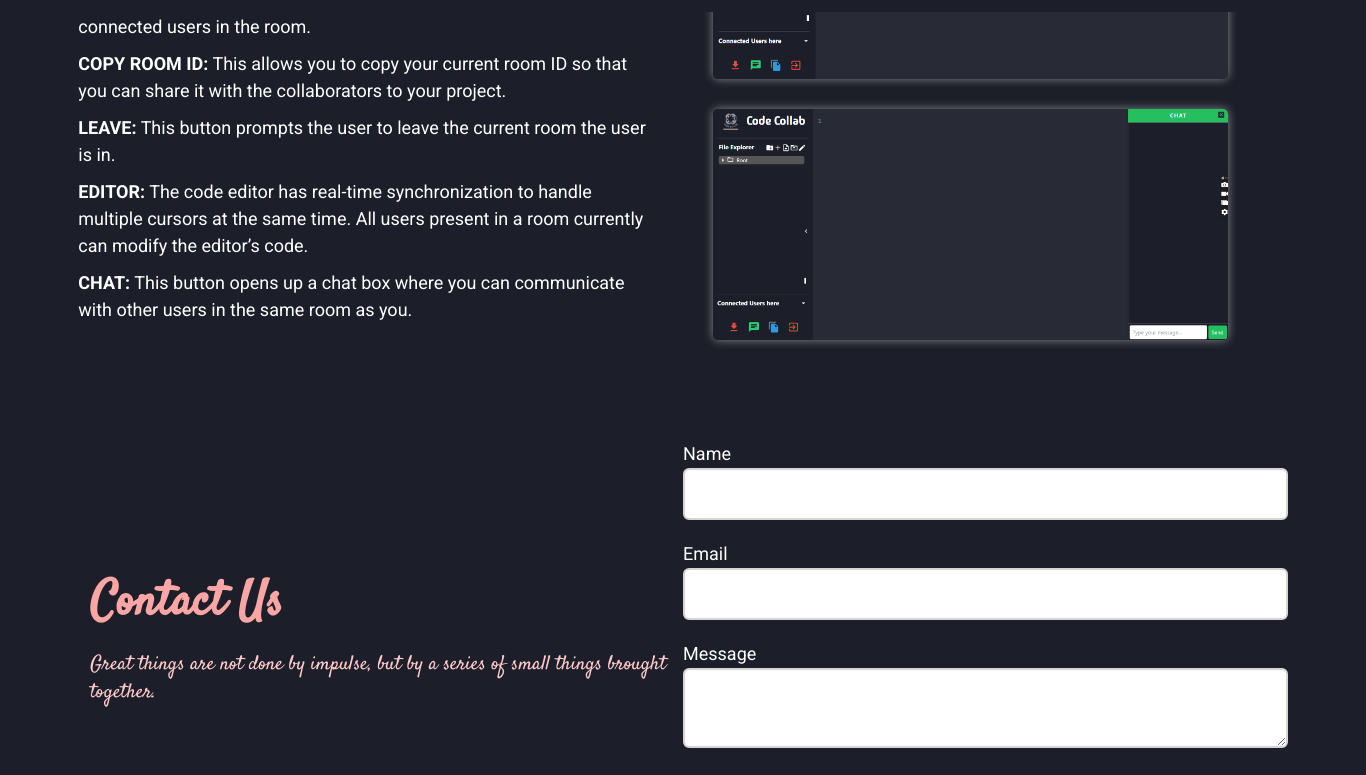
Test: Form functionality › handles form submission failure
(page scrolled)
Note: Fill out the form fields
Type "John" into the field labelled "Name". click: (985,494)
box: x1=683 y1=468 x2=1288 y2=520
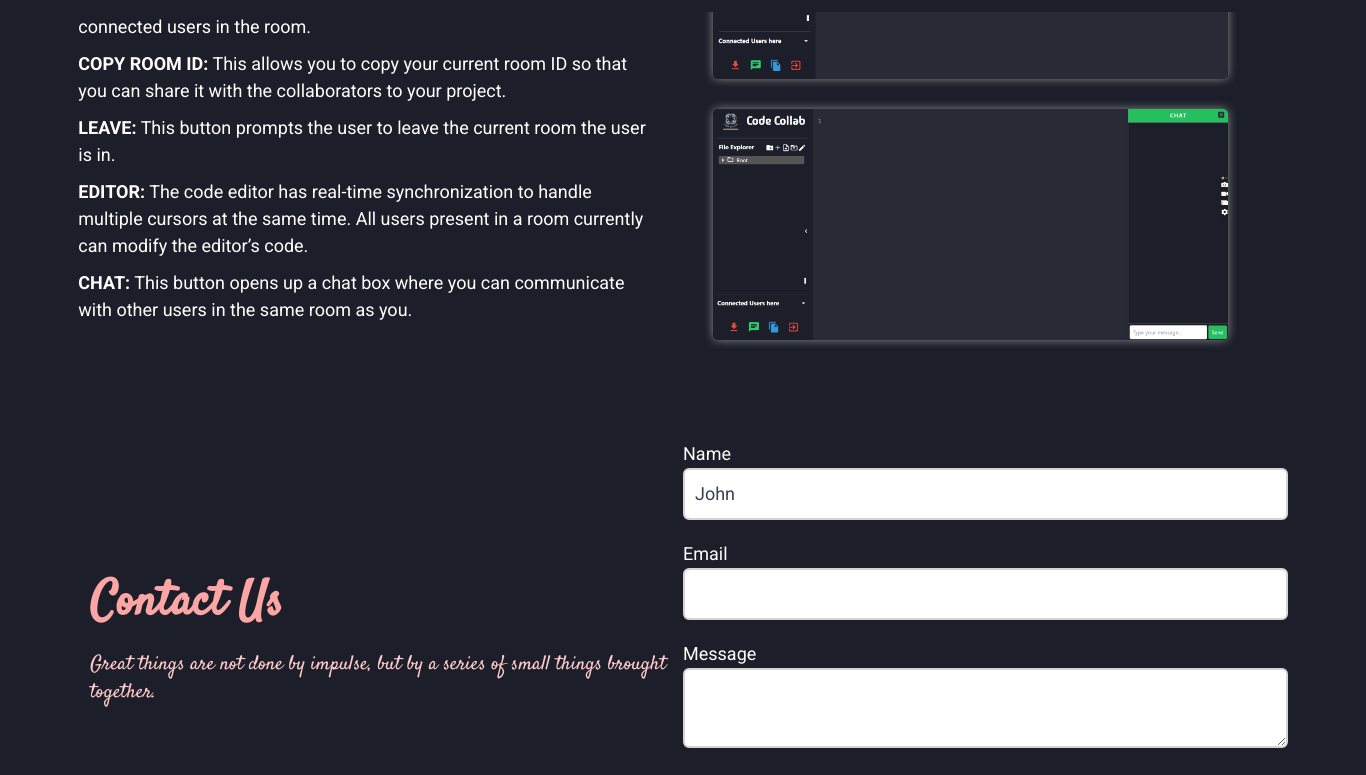
Type "john@example.com" into the field labelled "Email". click: (985,594)
box: x1=683 y1=568 x2=1288 y2=620
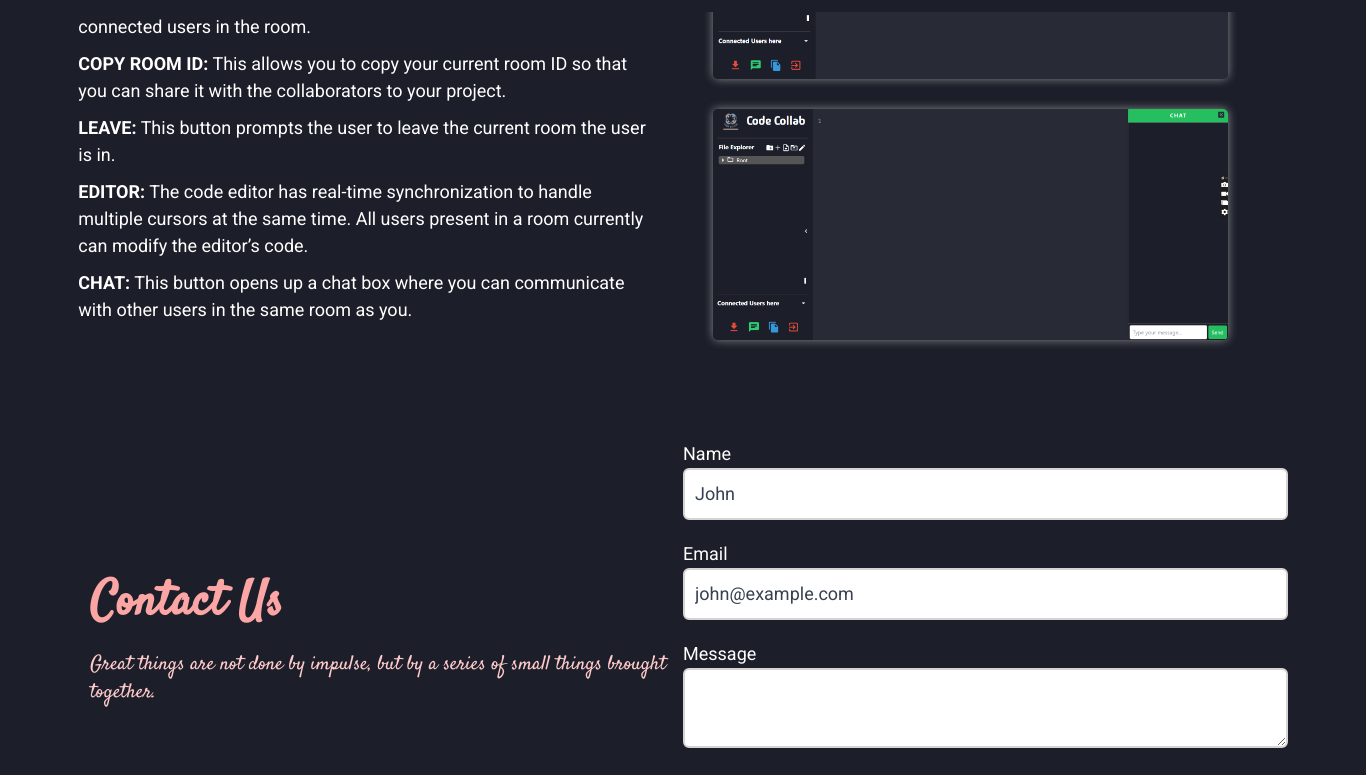
Type "Hello, World!" into the text box labelled "Message". click: (985,708)
box: x1=683 y1=668 x2=1288 y2=748
(page scrolled)
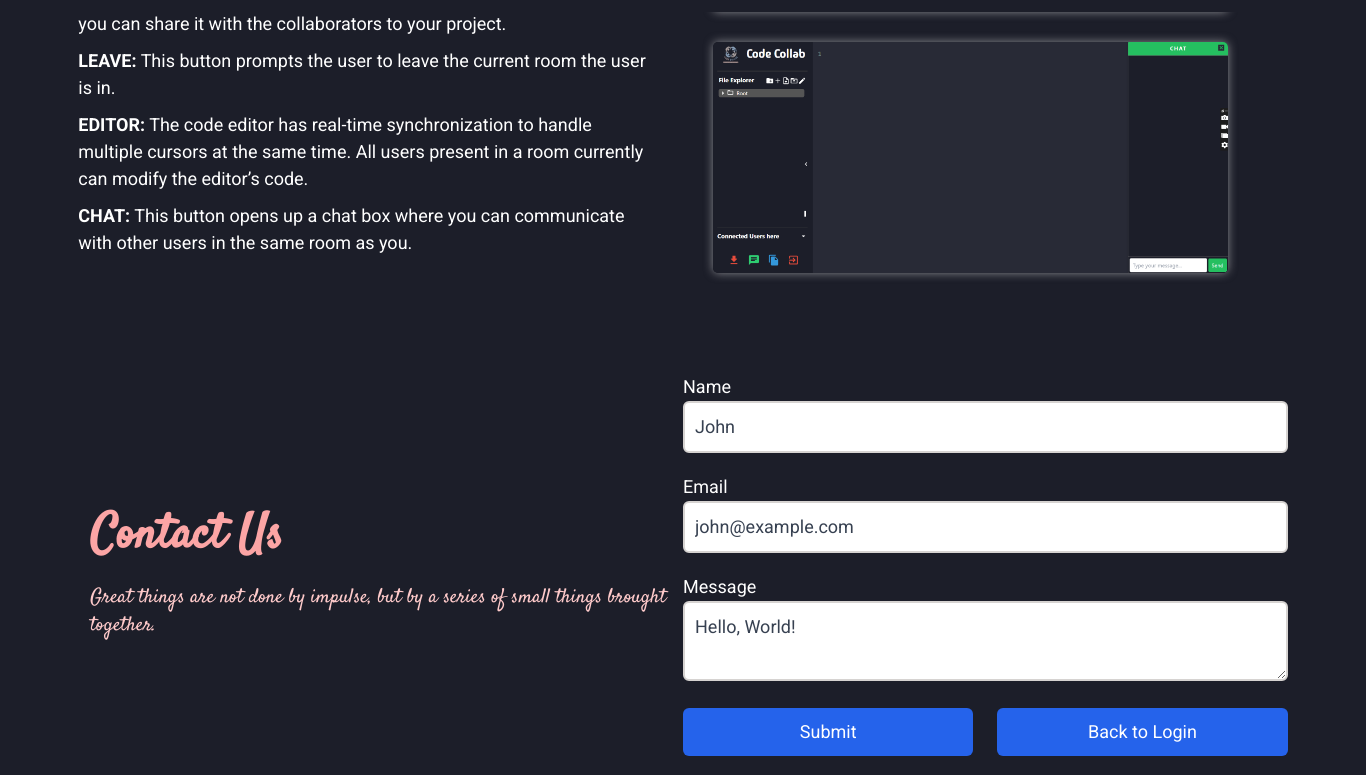
Note: Submit the form
Click the button "Submit". click: (828,732)
box: x1=683 y1=708 x2=973 y2=756
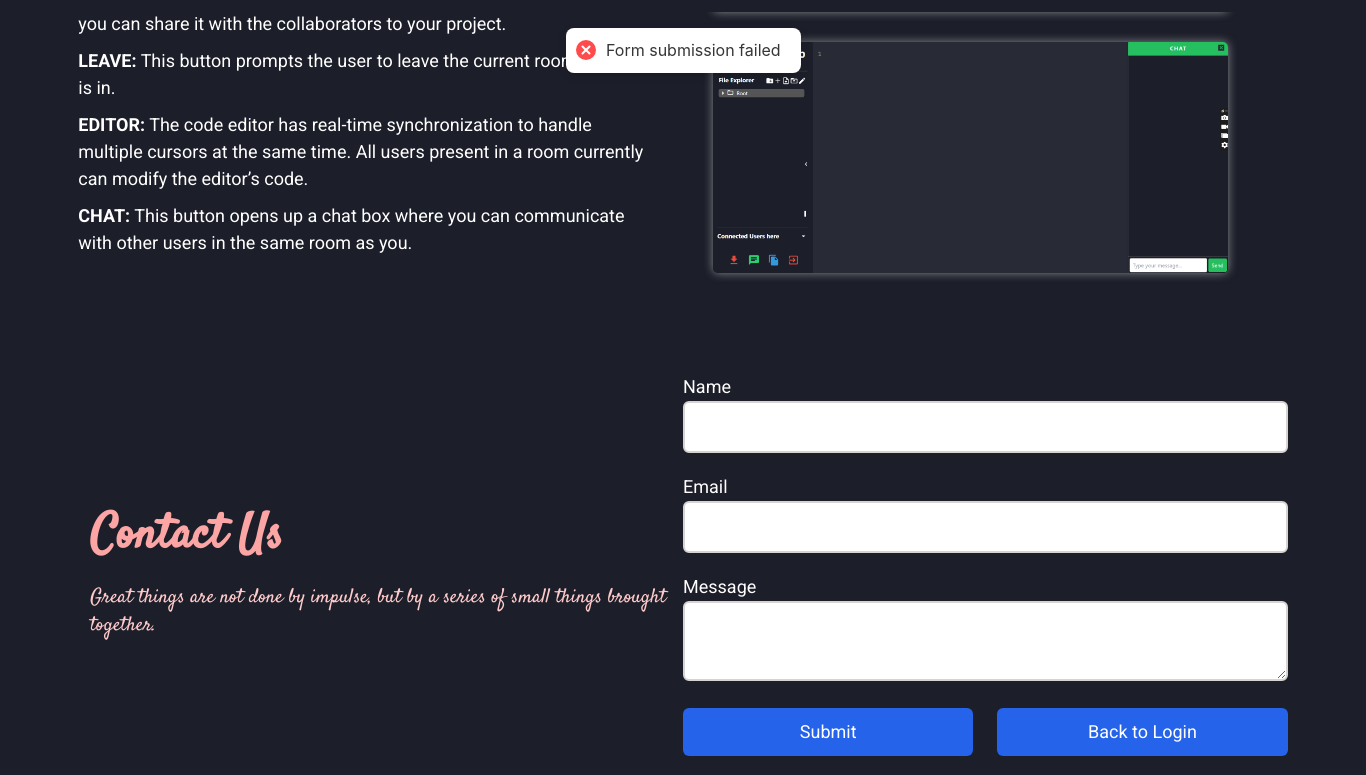
Check: the text "Form submission failed" is shown, box x1=606 y1=40 x2=780 y2=61
